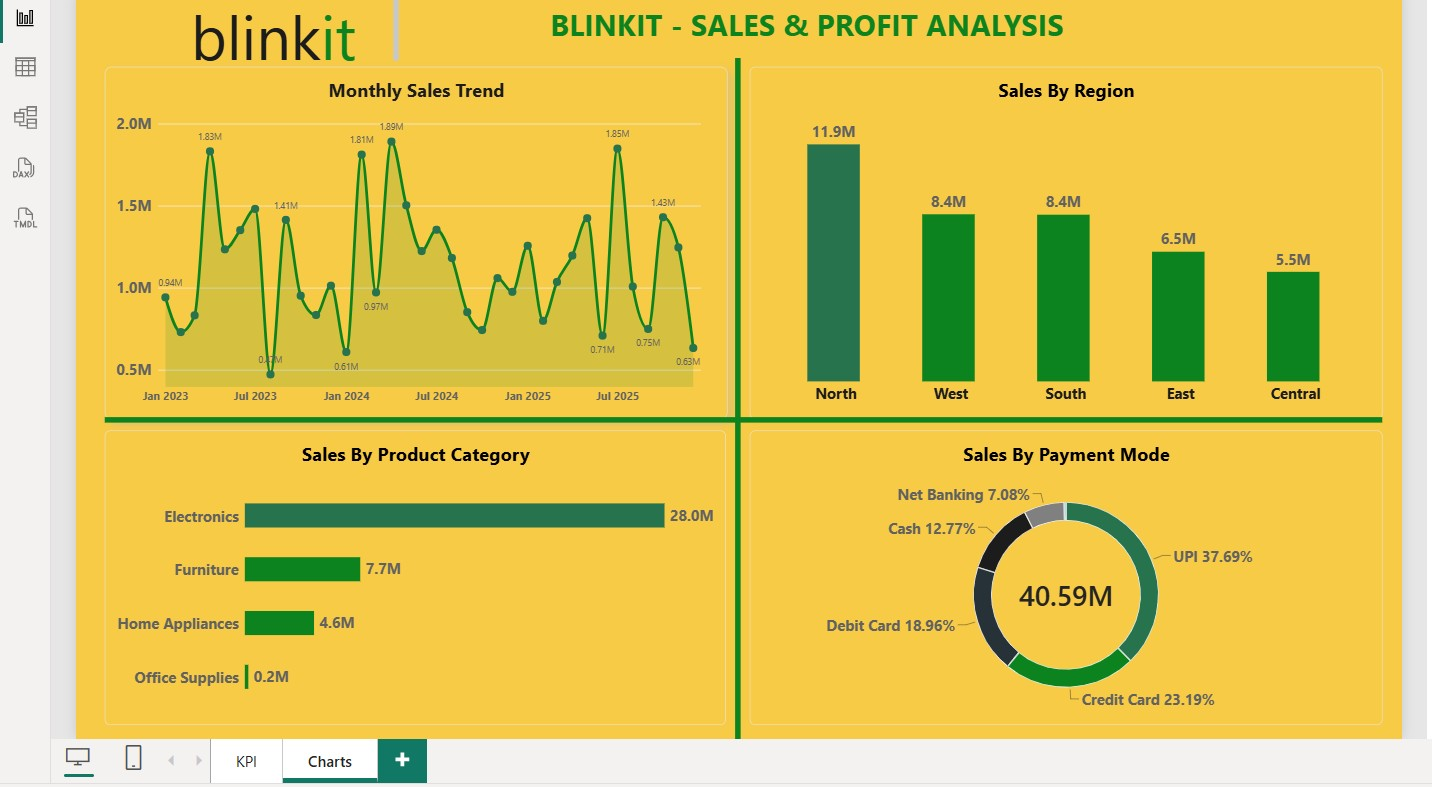

Layout of this report page (visuals, bound fields, positions):
{"tool":"powerbi","page":{"name":"Charts","canvas":[1920,1080],"ordinal":1},"visuals":[{"type":"lineChart","title":"Monthly Sales Trend","fields":{"Category":["SalesData.OrderDate.Variation.Date Hierarchy.Year","SalesData.OrderDate.Variation.Date Hierarchy.Month"],"Y":["Sum(SalesData.Sales)"]},"box":[41.6,106.8,901.2,510.3],"z":0},{"type":"clusteredColumnChart","title":"Sales By Region","fields":{"Category":["SalesData.Region"],"Y":["Sum(SalesData.Sales)"]},"box":[975.4,106.8,915.7,510.3],"z":1000},{"type":"clusteredBarChart","title":"Sales By Product Category","fields":{"Category":["SalesData.Category"],"Y":["Sum(SalesData.Sales)"]},"box":[41.2,634,899.5,426.1],"z":2000},{"type":"donutChart","title":"Sales By Payment Mode","fields":{"Category":["SalesData.PaymentMode"],"Y":["Sum(SalesData.Sales)"]},"box":[975.6,634,916,426.1],"z":3000},{"type":"textbox","box":[629.8,16.3,857.8,77.8],"z":8000},{"type":"textbox","box":[166.5,1.8,300.4,106.8],"z":8001},{"type":"shape","box":[787.2,94.1,342,986.3],"z":8002},{"type":"shape","box":[41.6,466.9,1849.5,302.2],"z":8003}]}

Visuals, with their boxes on the page's 1920x1080 design canvas (x1, y1, x2, y2). These are canvas units, not pixel positions in the 1432x787 screenshot, which may show the page scaled, cropped or inside an application window:
"Monthly Sales Trend" lineChart: select_region(42, 107, 943, 617)
"Sales By Region" clusteredColumnChart: select_region(975, 107, 1891, 617)
"Sales By Product Category" clusteredBarChart: select_region(41, 634, 941, 1060)
"Sales By Payment Mode" donutChart: select_region(976, 634, 1892, 1060)
textbox: select_region(630, 16, 1488, 94)
textbox: select_region(166, 2, 467, 109)
shape: select_region(787, 94, 1129, 1080)
shape: select_region(42, 467, 1891, 769)
